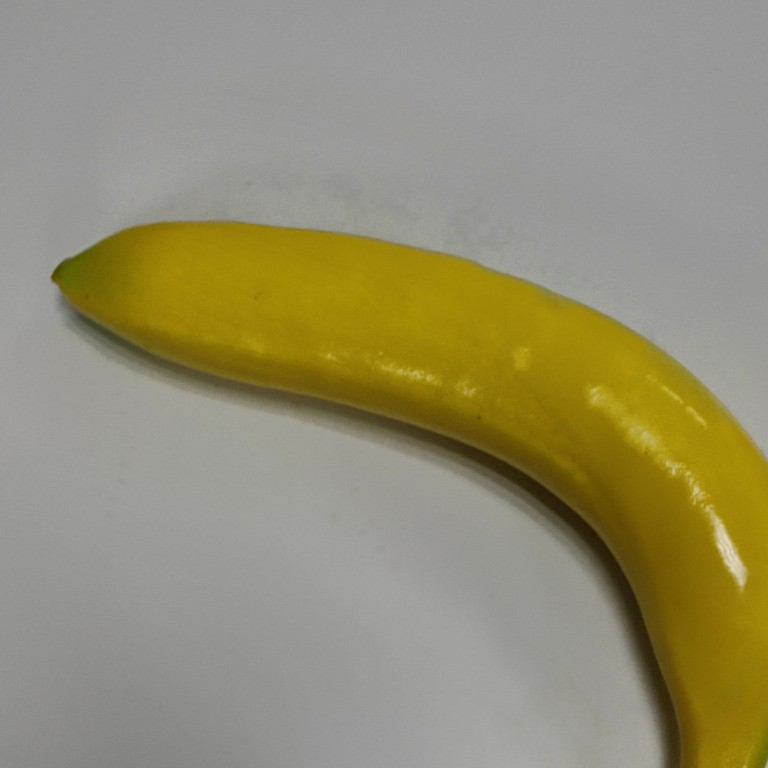fruit_banana: (36, 211, 768, 768)
